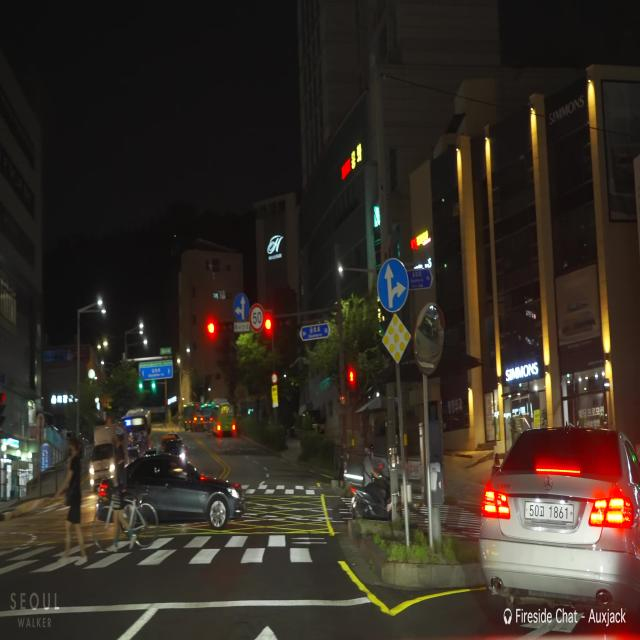Red Light: (207, 321, 215, 334), (265, 317, 271, 331)
